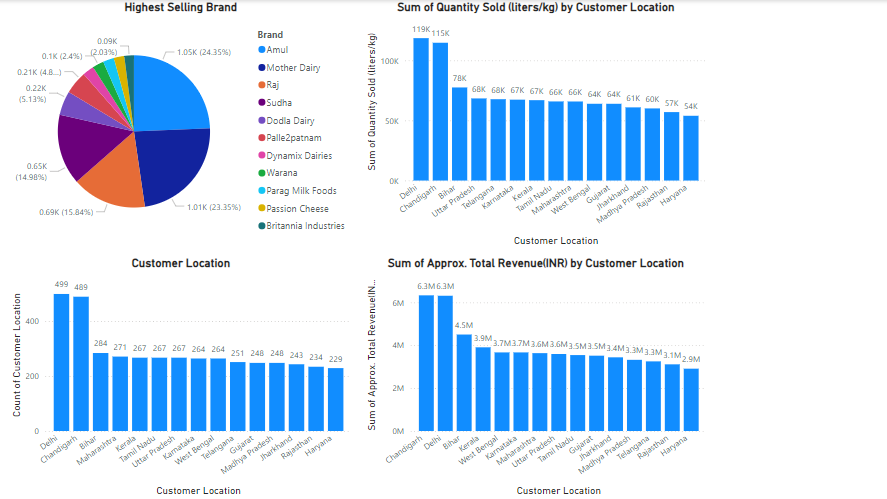

The page's visual inventory and layout, read from the dashboard file:
{"tool":"powerbi","page":{"name":"Page 2","canvas":[1280,720],"ordinal":1},"visuals":[{"type":"pieChart","title":"Highest Selling Brand","fields":{"Category":["dairy_dataset.Brand"],"Y":["CountNonNull(dairy_dataset.Brand)"]},"box":[10.1,0,500.6,359.5],"z":0},{"type":"columnChart","title":" Customer Location","fields":{"Category":["dairy_dataset.Customer Location"],"Y":["CountNonNull(dairy_dataset.Customer Location)"]},"box":[10,369,501,351],"z":1000},{"type":"columnChart","fields":{"Category":["dairy_dataset.Customer Location"],"Y":["Sum(dairy_dataset.Quantity Sold (liters/kg))"]},"box":[521,0,501,359],"z":2000},{"type":"clusteredColumnChart","fields":{"Category":["dairy_dataset.Customer Location"],"Y":["Sum(dairy_dataset.Approx. Total Revenue(INR))"]},"box":[521,369,501,351],"z":3000}]}

Visuals, with their boxes in screenshot pixels (x1, y1, x2, y2), scaled from the page's 1280x720 canvas onto the 887x499 screenshot:
"Highest Selling Brand" pieChart: x1=7 y1=0 x2=354 y2=249
" Customer Location" columnChart: x1=7 y1=256 x2=354 y2=498
columnChart - dairy_dataset.Customer Location x Sum(dairy_dataset.Quantity Sold (liters/kg)): x1=361 y1=0 x2=708 y2=249
clusteredColumnChart - dairy_dataset.Customer Location x Sum(dairy_dataset.Approx. Total Revenue(INR)): x1=361 y1=256 x2=708 y2=498
